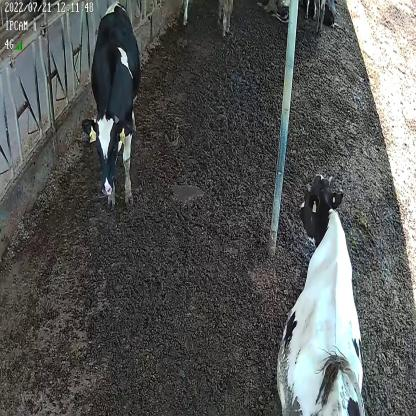cow: (275, 170, 366, 416), (82, 4, 142, 208)
